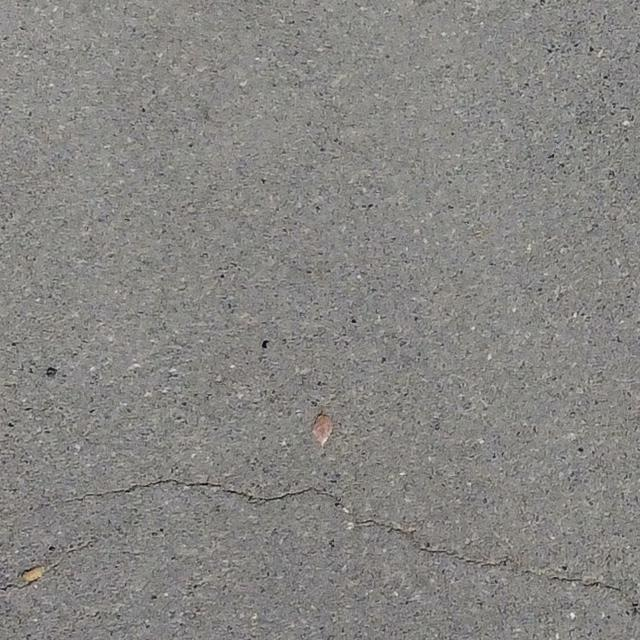TransverseCrack: (62, 476, 640, 605), (1, 538, 93, 595)
